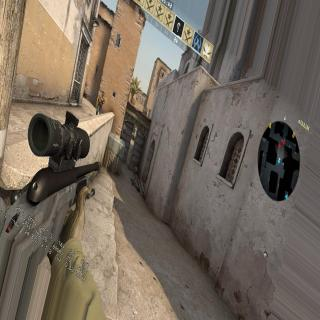T-Body: (95, 90, 107, 113), (132, 165, 138, 186)
T-Head: (102, 91, 105, 97), (136, 165, 138, 169)
